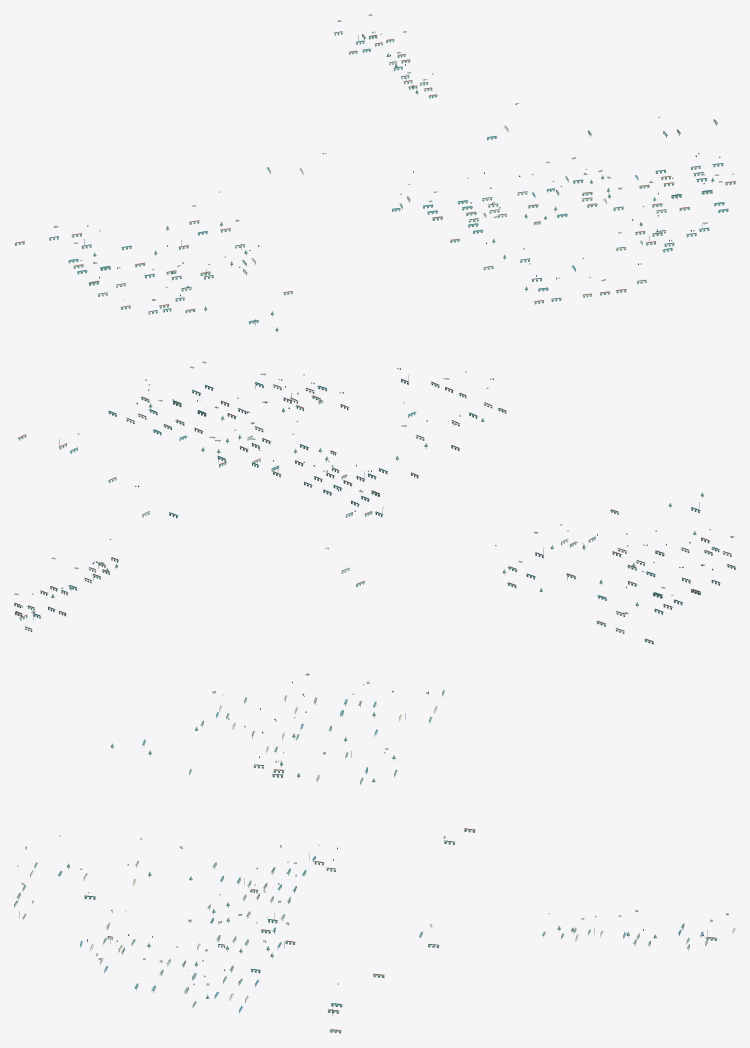
The picture shows the model from 3 angles, top to bottom: view 1: azimuth 30°, elevation 25°; view 2: azimuth 150°, elevation 25°; view 3: azimuth 270°, elevation 25°; orthographic projection. The views are drawn at different scales.
Visible parts, largest first — view 1: Station neighborhood architectural details; view 2: Station neighborhood architectural details; view 3: Station neighborhood architectural details.
Part boxes in pixels (left/top/right/bottom): Station neighborhood architectural details: left=14, top=14, right=735, bottom=332; Station neighborhood architectural details: left=14, top=361, right=735, bottom=644; Station neighborhood architectural details: left=14, top=673, right=735, bottom=1033.
Bounding box in the file's own units: 737 × 33.9 × 658.
